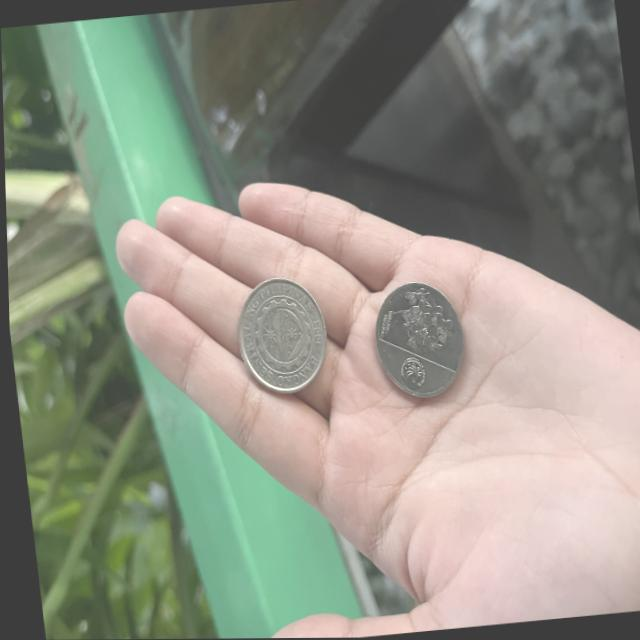1_New_Back: (378, 279, 459, 390)
1_Old_Back: (241, 291, 315, 374)
